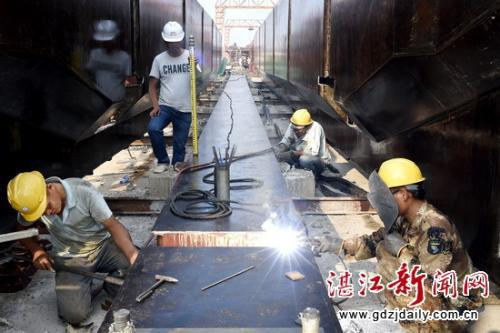helmet: (376, 153, 430, 215), (6, 168, 57, 221), (160, 19, 187, 52), (286, 106, 314, 136)
